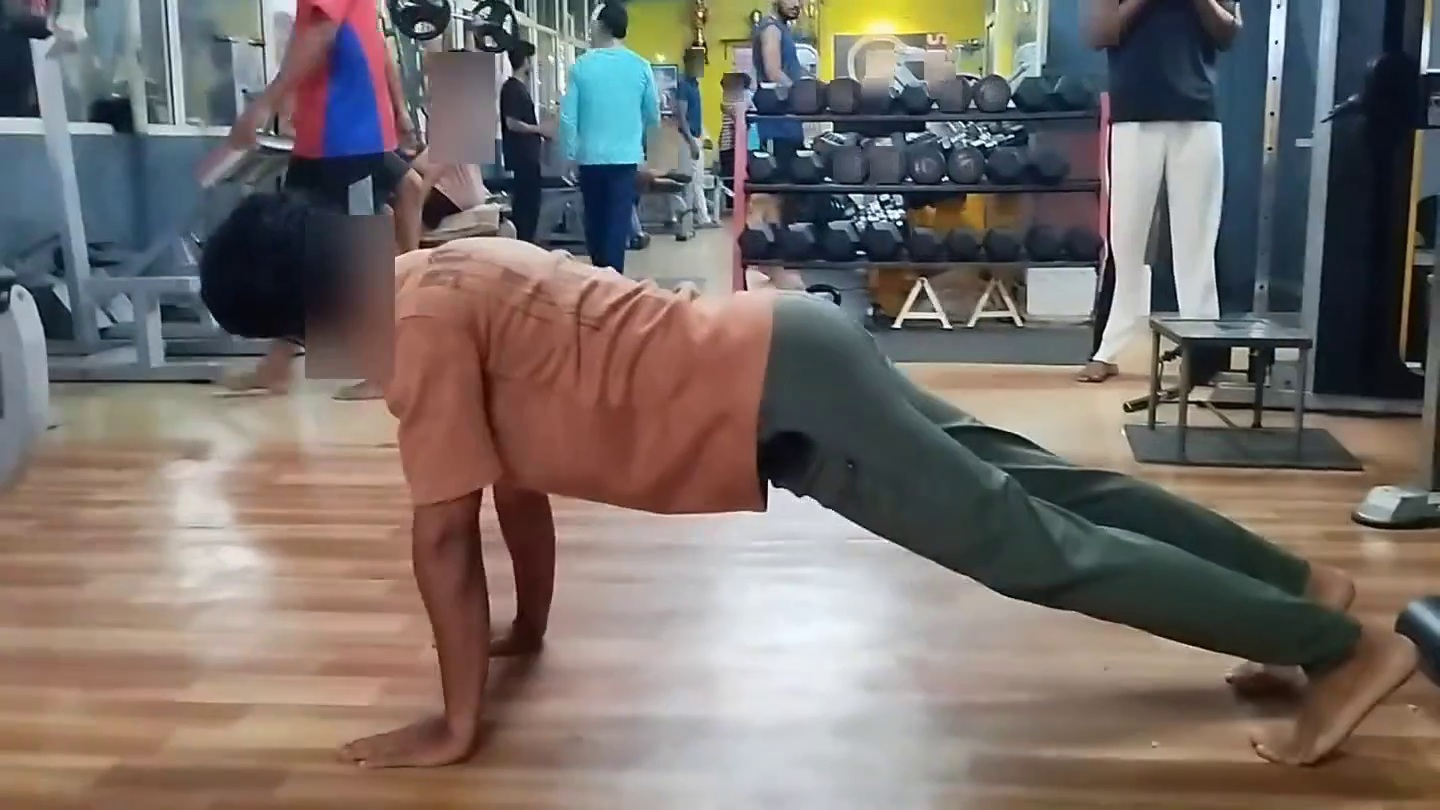push_up: (158, 170, 1440, 810)
